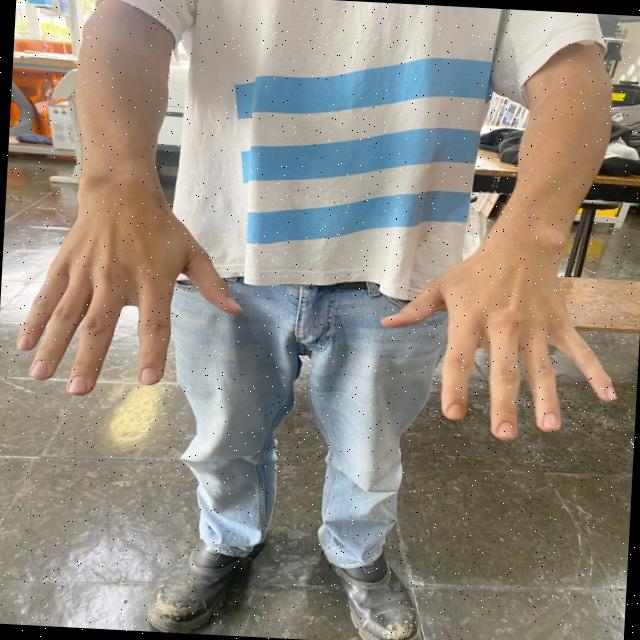BOTA: (141, 515, 290, 634), (308, 519, 431, 640)
SEM LUVA: (363, 242, 633, 449), (9, 188, 252, 392)
